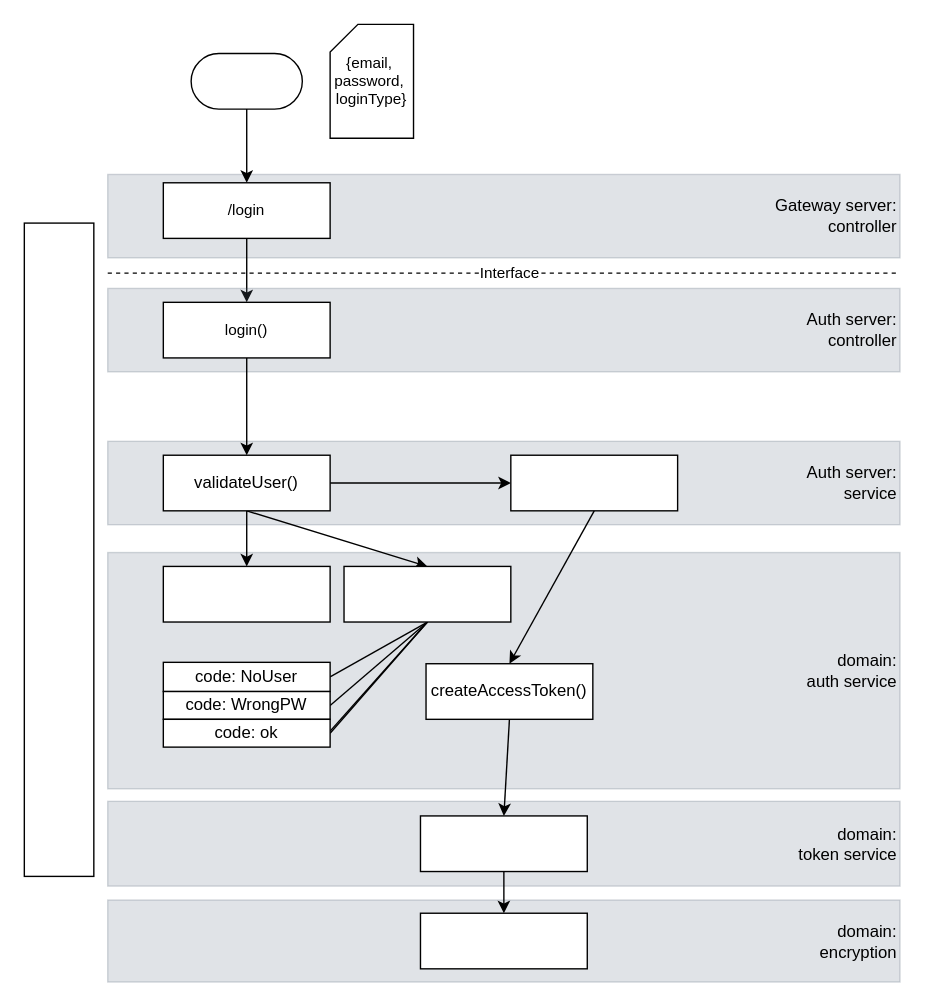
Some shapes in this 926 by 1006 pixel diagram are drawn without their labels. The shapes that lost their labels are listed below. From the top down, each one's centre as x and y in pixels, then its label:
point 246,80: request
point 593,482: signIn()
point 58,549: login Process
point 246,593: findUserCredByEmail()
point 427,593: checkResultCode()
point 503,843: generateToken()
point 503,940: signJwtToken()
